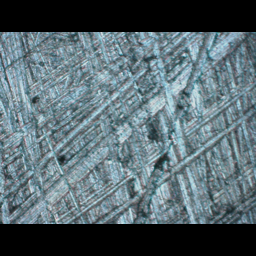d: (41, 35, 255, 224)
